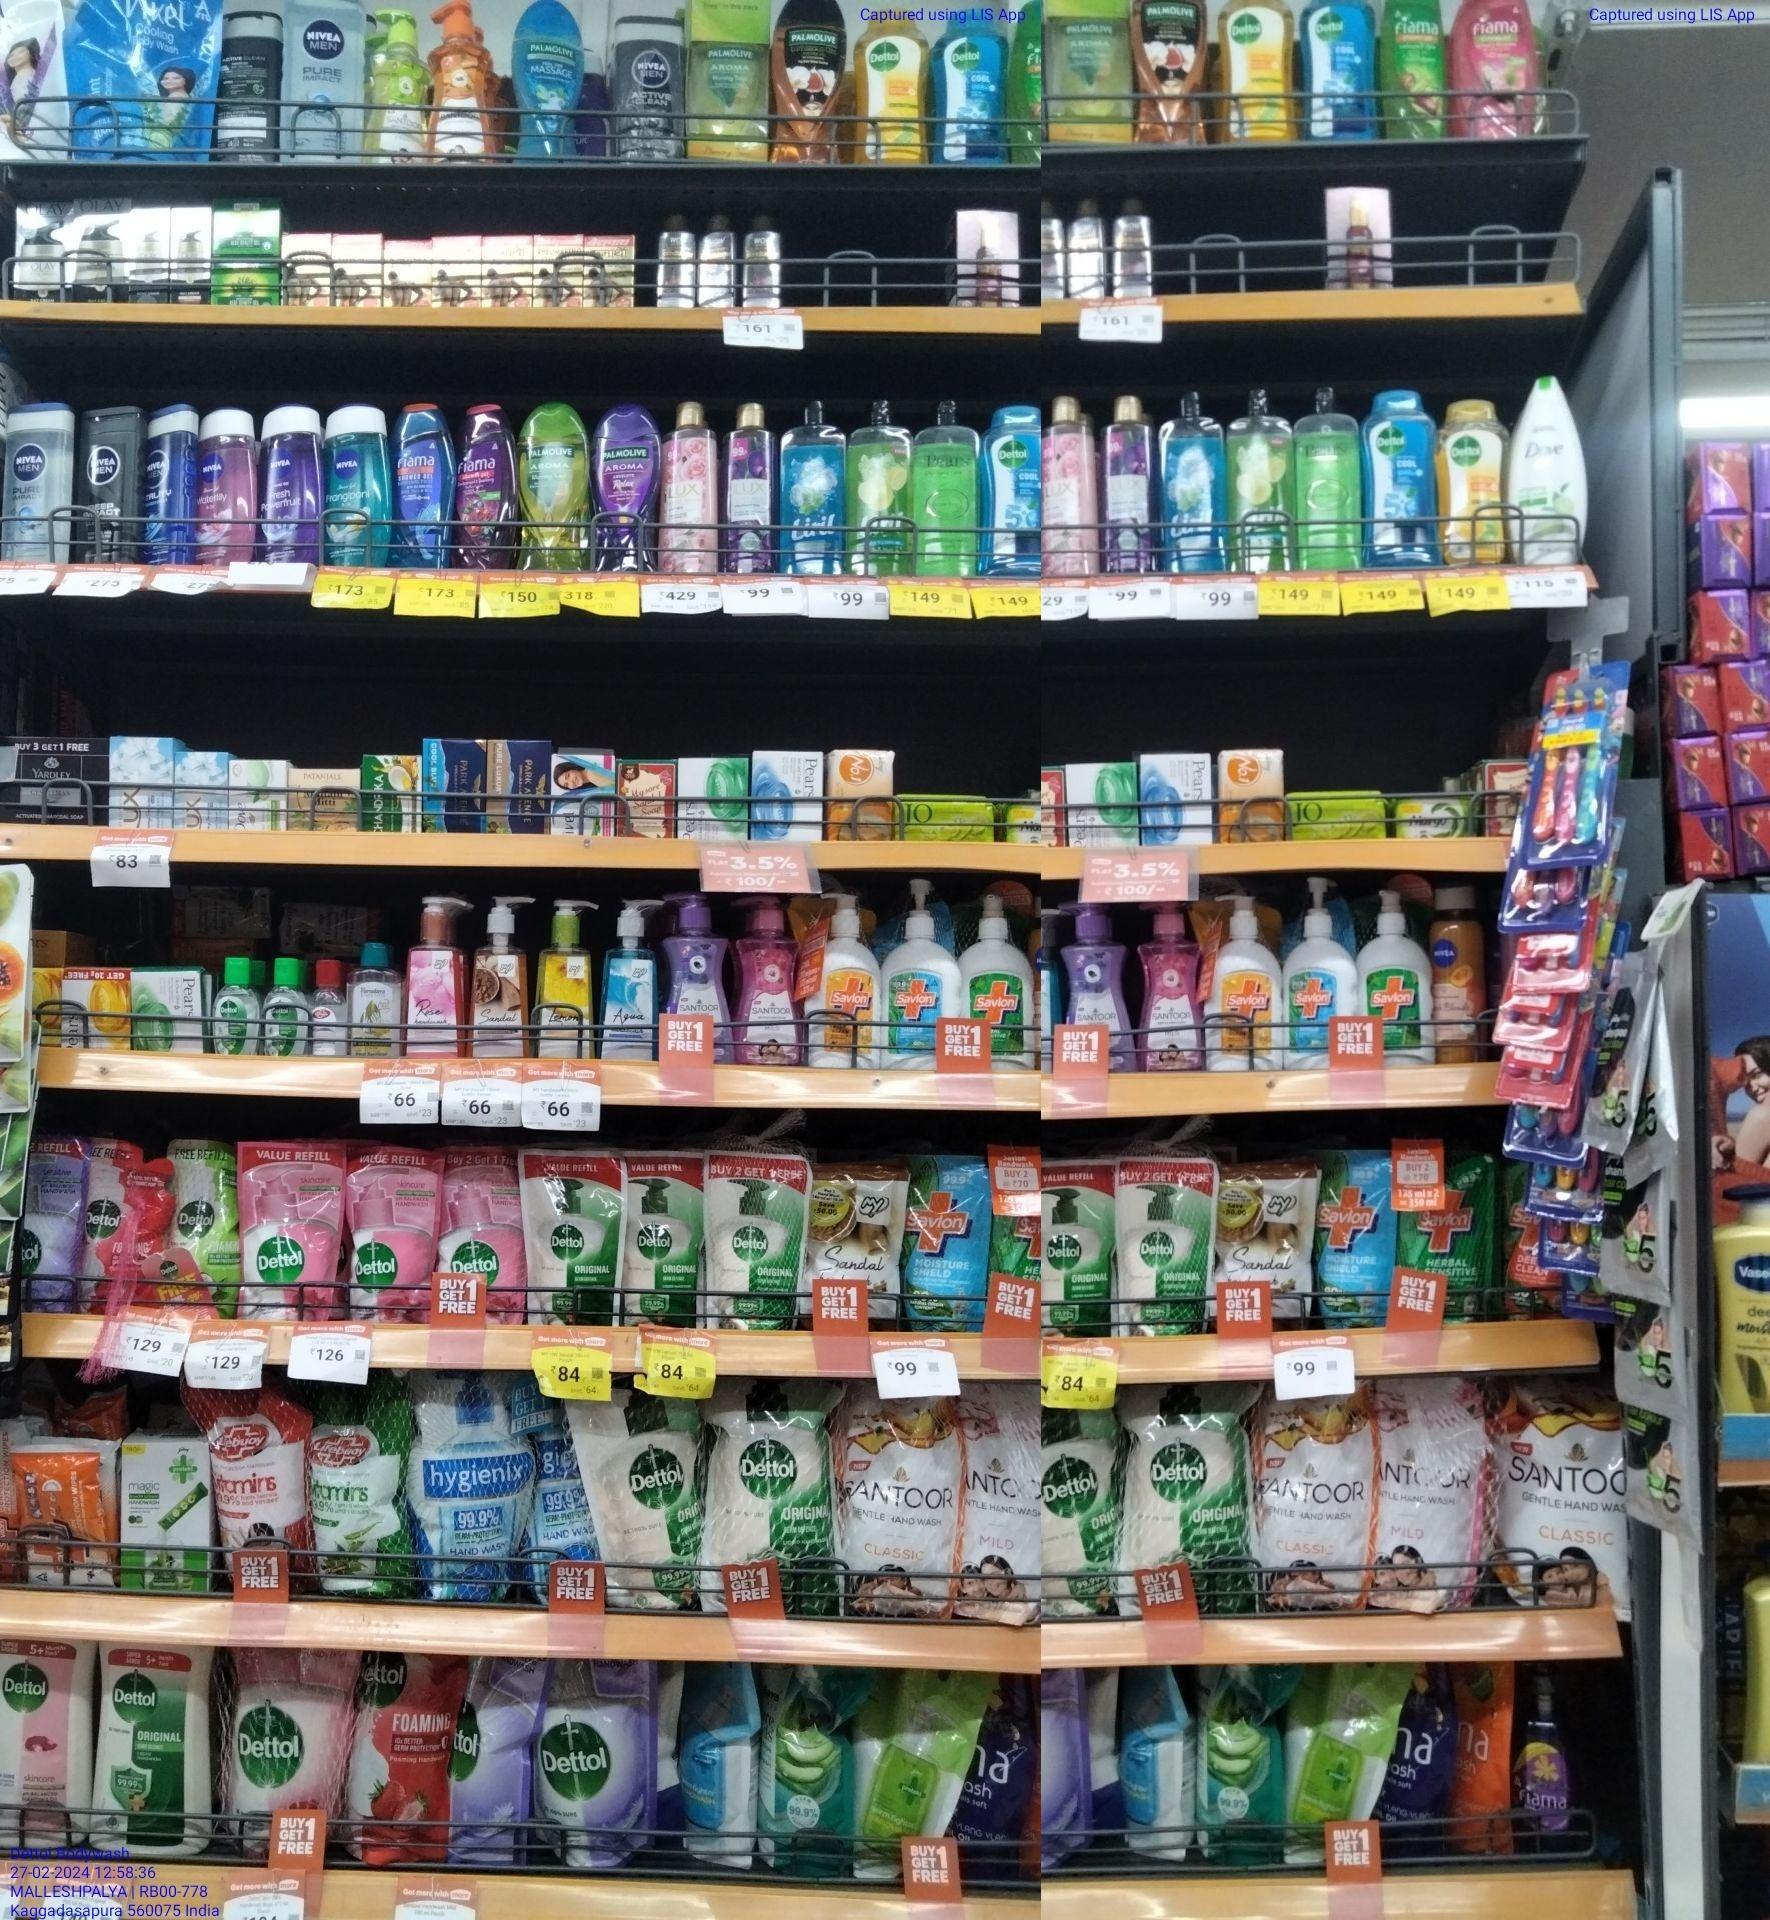Dettol_Bodywash_Cool: (1368, 390, 1435, 575), (934, 8, 1009, 171), (982, 401, 1046, 580), (1303, 0, 1379, 149)
Dettol_Bodywash_Refresh: (1215, 0, 1297, 146), (857, 12, 928, 167), (1440, 400, 1507, 565)
Dove_Refreshing_Body_Wash_250ML: (1509, 375, 1593, 569)
Fiama_Shower_Gel_Lemongrass_and_Jojoba_250ML: (1384, 0, 1449, 142)
Fiama_Shower_Gel_Patchouli_and_Macadamia_250ML: (1457, 2, 1539, 140)
Liril_Cooling_Mint_Body_Wash_250ML: (1163, 390, 1226, 575), (781, 401, 847, 579)
Liril_Lime_and_Tea_Tree_Oil_Body_Wash_250ML: (1230, 385, 1293, 577), (850, 398, 912, 579)
Lux_Black_Orchid_Scent_and_Juniper_Oil_Body_Wash_245ML: (1099, 391, 1158, 577), (721, 401, 778, 577)
Nivea_Shower_Gel_Frangipani_and_Oil_250ML: (326, 405, 395, 570)
Nivea_Shower_Gel_Fresh_Powerfruit_250ML: (258, 400, 323, 564)
Nivea_Shower_Gel_Waterlily_and_Oil_250ML: (197, 393, 256, 567)
Palmolive_Aroma_Moments_Feel_The_Massage_Shower_Gel_250ML: (507, 0, 582, 164)
Palmolive_Aroma_Morning_Tonic_Shower_Gel_250ML: (522, 400, 589, 574)
Palmolive_Aroma_Relax_250ML: (592, 403, 664, 575)
Palmolive_Luminous_Oils_With_White_Orchid_Shower_Gel_250ML: (771, 2, 848, 171), (1133, 0, 1206, 146)
Pears_Pure_Glycerin_and_Lemon_Flower_Extracts_Body_Wash_250ML: (1295, 383, 1362, 575), (913, 403, 979, 582)
